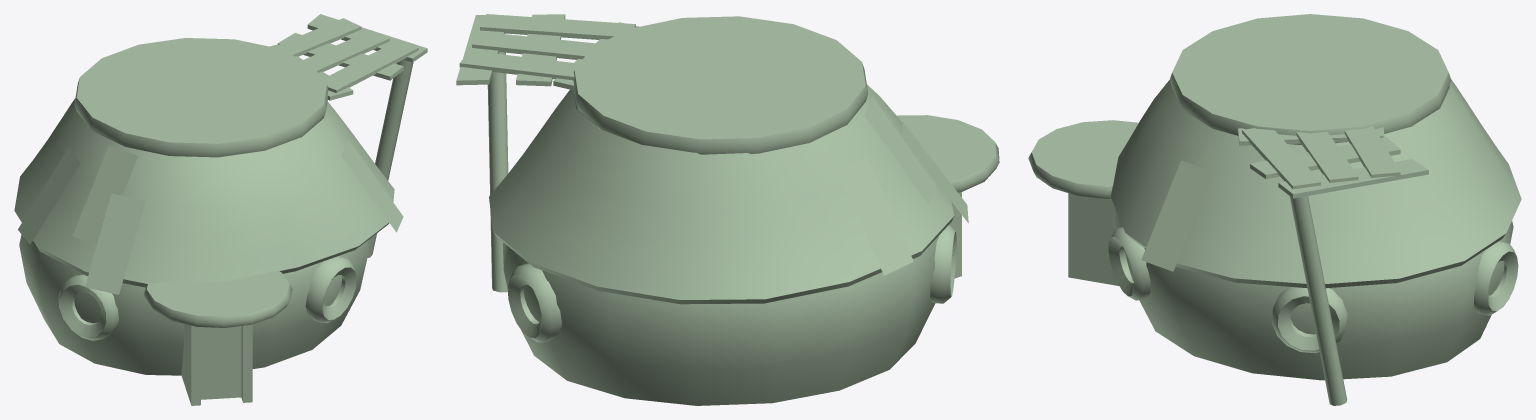
File: MESH_RoundHouse03.fbx
3 renders of one model, left to right at view 1: azimuth 30°, elevation 25°; view 2: azimuth 150°, elevation 25°; view 3: azimuth 270°, elevation 25°, orthographic. The views are drawn at different scales.
Parts seen in each view (by area): view 1: MESH_RoundHouse03; view 2: MESH_RoundHouse03; view 3: MESH_RoundHouse03.
Part boxes in pixels (x1,y1,x2,y2): MESH_RoundHouse03: (14, 14, 427, 405); MESH_RoundHouse03: (456, 14, 999, 405); MESH_RoundHouse03: (1028, 14, 1521, 405).
Bounding box in the file's own units: 8 × 8.04 × 4.27.
